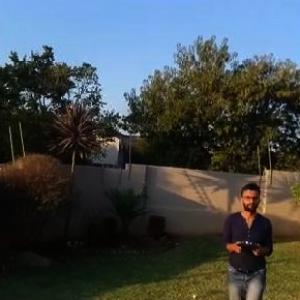follow: (217, 178, 276, 299)
